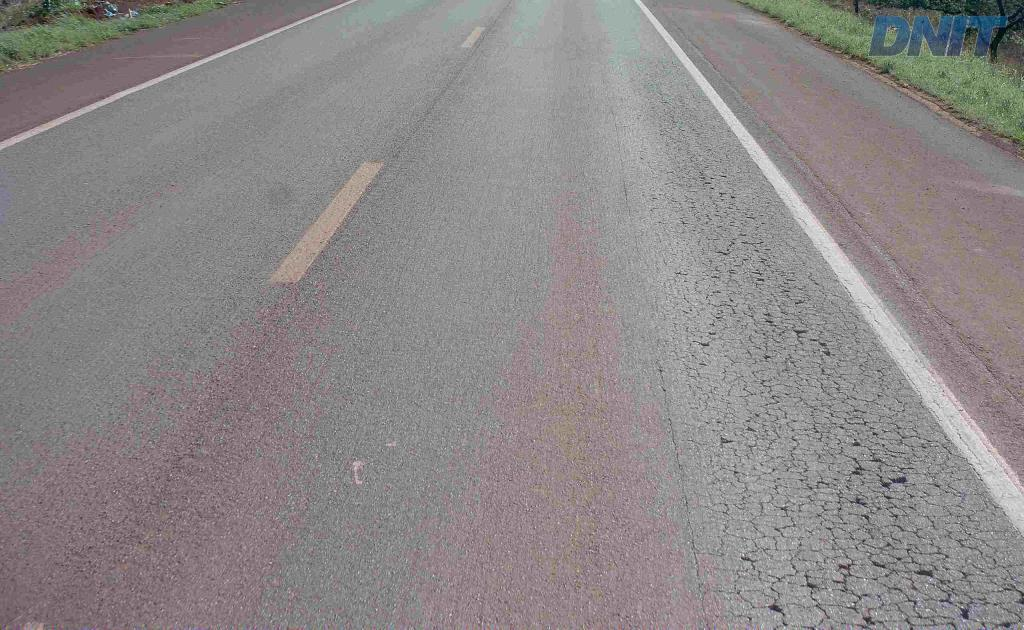crack: (864, 541, 950, 582)
